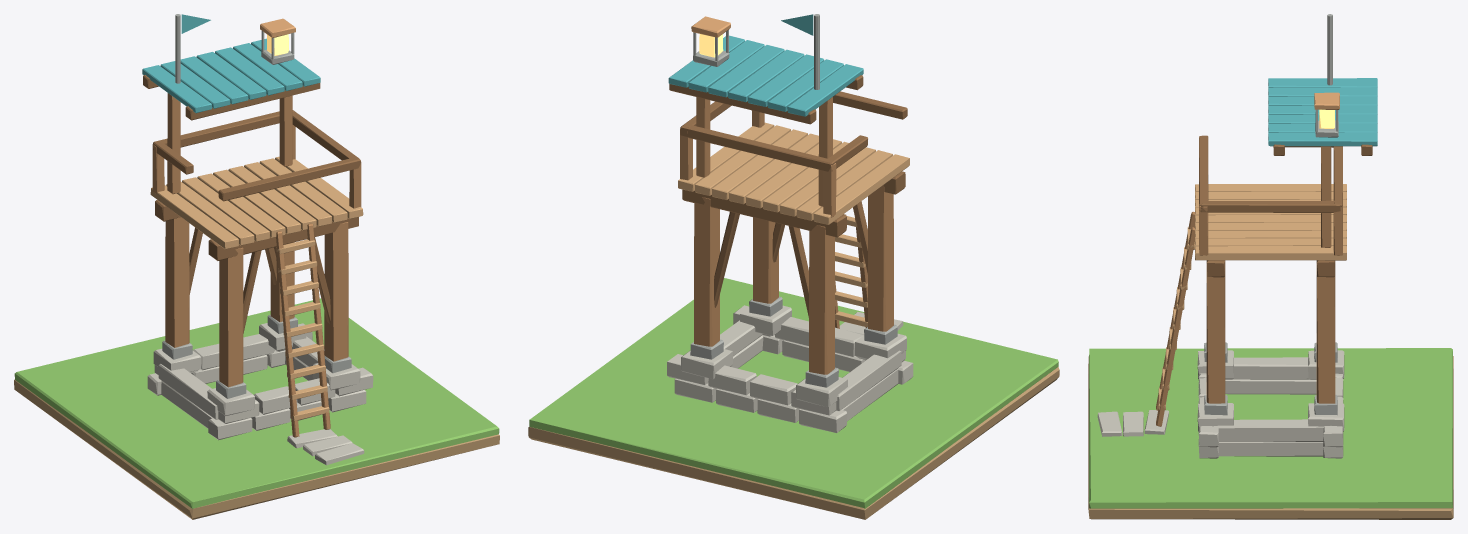
File: tower_l02_active_LOD1.glb
The picture shows the model from 3 angles, left to right: view 1: azimuth 30°, elevation 25°; view 2: azimuth 150°, elevation 25°; view 3: azimuth 270°, elevation 25°; orthographic projection. The views are drawn at different scales.
Visible parts, largest first — view 1: tower_l02_grass_tile_tower_l02_active_LOD1_tmp, tower_l02_earth_tile_tower_l02_active_LOD1_tmp, post_-0.61_-0.54_tower_l02_active_LOD1_tmp, post_-0.61_0.54_tower_l02_active_LOD1_tmp, post_0.61_-0.54_tower_l02_active_LOD1_tmp, balcony_rail_-0.66_tower_l02_active_LOD1_tmp, deck_board_0_tower_l02_active_LOD1_tmp, deck_bearer_-0.54_tower_l02_active_LOD1_tmp, stone_return_1_-0.72_tower_l02_active_LOD1_tmp, balcony_rail_0.66_tower_l02_active_LOD1_tmp, ladder_rail_-0.18_tower_l02_active_LOD1_tmp, deck_board_2_tower_l02_active_LOD1_tmp (+32 smaller); view 2: tower_l02_grass_tile_tower_l02_active_LOD1_tmp, tower_l02_earth_tile_tower_l02_active_LOD1_tmp, post_-0.61_0.54_tower_l02_active_LOD1_tmp, post_-0.61_-0.54_tower_l02_active_LOD1_tmp, post_0.61_0.54_tower_l02_active_LOD1_tmp, balcony_rail_0.66_tower_l02_active_LOD1_tmp, post_0.61_-0.54_tower_l02_active_LOD1_tmp, deck_bearer_0.54_tower_l02_active_LOD1_tmp, deck_board_0_tower_l02_active_LOD1_tmp, stone_return_1_-0.72_tower_l02_active_LOD1_tmp, canopy_board_0_tower_l02_active_LOD1_tmp, deck_board_6_tower_l02_active_LOD1_tmp (+33 smaller); view 3: tower_l02_grass_tile_tower_l02_active_LOD1_tmp, tower_l02_earth_tile_tower_l02_active_LOD1_tmp, post_0.61_-0.54_tower_l02_active_LOD1_tmp, post_0.61_0.54_tower_l02_active_LOD1_tmp, stone_return_1_0.72_tower_l02_active_LOD1_tmp, deck_board_8_tower_l02_active_LOD1_tmp, stone_return_1_-0.72_tower_l02_active_LOD1_tmp, balcony_side_rail_tower_l02_active_LOD1_tmp, stone_return_0_0.72_tower_l02_active_LOD1_tmp, canopy_board_6_tower_l02_active_LOD1_tmp, stone_return_0_-0.72_tower_l02_active_LOD1_tmp, ladder_rail_0.18_tower_l02_active_LOD1_tmp (+28 smaller).
Boxes of the visible parts, left/top/right/bottom form: tower_l02_grass_tile_tower_l02_active_LOD1_tmp: left=14, top=298, right=499, bottom=508; tower_l02_earth_tile_tower_l02_active_LOD1_tmp: left=14, top=379, right=499, bottom=519; post_-0.61_-0.54_tower_l02_active_LOD1_tmp: left=219, top=247, right=243, bottom=387; post_-0.61_0.54_tower_l02_active_LOD1_tmp: left=165, top=217, right=189, bottom=347; post_0.61_-0.54_tower_l02_active_LOD1_tmp: left=324, top=222, right=348, bottom=361; balcony_rail_-0.66_tower_l02_active_LOD1_tmp: left=218, top=158, right=360, bottom=201; deck_board_0_tower_l02_active_LOD1_tmp: left=150, top=185, right=238, bottom=249; deck_bearer_-0.54_tower_l02_active_LOD1_tmp: left=208, top=217, right=358, bottom=260; stone_return_1_-0.72_tower_l02_active_LOD1_tmp: left=158, top=364, right=218, bottom=419; balcony_rail_0.66_tower_l02_active_LOD1_tmp: left=153, top=110, right=293, bottom=149; ladder_rail_-0.18_tower_l02_active_LOD1_tmp: left=276, top=231, right=299, bottom=437; deck_board_2_tower_l02_active_LOD1_tmp: left=182, top=177, right=269, bottom=241; tower_l02_grass_tile_tower_l02_active_LOD1_tmp: left=529, top=278, right=1058, bottom=508; tower_l02_earth_tile_tower_l02_active_LOD1_tmp: left=528, top=367, right=1059, bottom=519; post_-0.61_0.54_tower_l02_active_LOD1_tmp: left=809, top=225, right=834, bottom=374; post_-0.61_-0.54_tower_l02_active_LOD1_tmp: left=868, top=185, right=893, bottom=331; post_0.61_0.54_tower_l02_active_LOD1_tmp: left=694, top=197, right=719, bottom=346; balcony_rail_0.66_tower_l02_active_LOD1_tmp: left=680, top=123, right=832, bottom=171; post_0.61_-0.54_tower_l02_active_LOD1_tmp: left=753, top=217, right=778, bottom=303; deck_bearer_0.54_tower_l02_active_LOD1_tmp: left=682, top=189, right=846, bottom=237; deck_board_0_tower_l02_active_LOD1_tmp: left=813, top=154, right=909, bottom=224; stone_return_1_-0.72_tower_l02_active_LOD1_tmp: left=836, top=350, right=901, bottom=410; canopy_board_0_tower_l02_active_LOD1_tmp: left=787, top=64, right=863, bottom=116; deck_board_6_tower_l02_active_LOD1_tmp: left=712, top=129, right=807, bottom=199; tower_l02_grass_tile_tower_l02_active_LOD1_tmp: left=1089, top=348, right=1452, bottom=508; tower_l02_earth_tile_tower_l02_active_LOD1_tmp: left=1088, top=356, right=1453, bottom=519; post_0.61_-0.54_tower_l02_active_LOD1_tmp: left=1206, top=260, right=1225, bottom=403; post_0.61_0.54_tower_l02_active_LOD1_tmp: left=1316, top=261, right=1335, bottom=403; stone_return_1_0.72_tower_l02_active_LOD1_tmp: left=1213, top=419, right=1323, bottom=441; deck_board_8_tower_l02_active_LOD1_tmp: left=1195, top=246, right=1346, bottom=260; stone_return_1_-0.72_tower_l02_active_LOD1_tmp: left=1233, top=357, right=1316, bottom=379; balcony_side_rail_tower_l02_active_LOD1_tmp: left=1201, top=200, right=1340, bottom=212; stone_return_0_0.72_tower_l02_active_LOD1_tmp: left=1218, top=441, right=1323, bottom=456; canopy_board_6_tower_l02_active_LOD1_tmp: left=1268, top=132, right=1377, bottom=146; stone_return_0_-0.72_tower_l02_active_LOD1_tmp: left=1225, top=379, right=1316, bottom=394; ladder_rail_0.18_tower_l02_active_LOD1_tmp: left=1156, top=227, right=1194, bottom=426.
Size of the model in its own units: 3.6 by 4.37 by 3.58.
